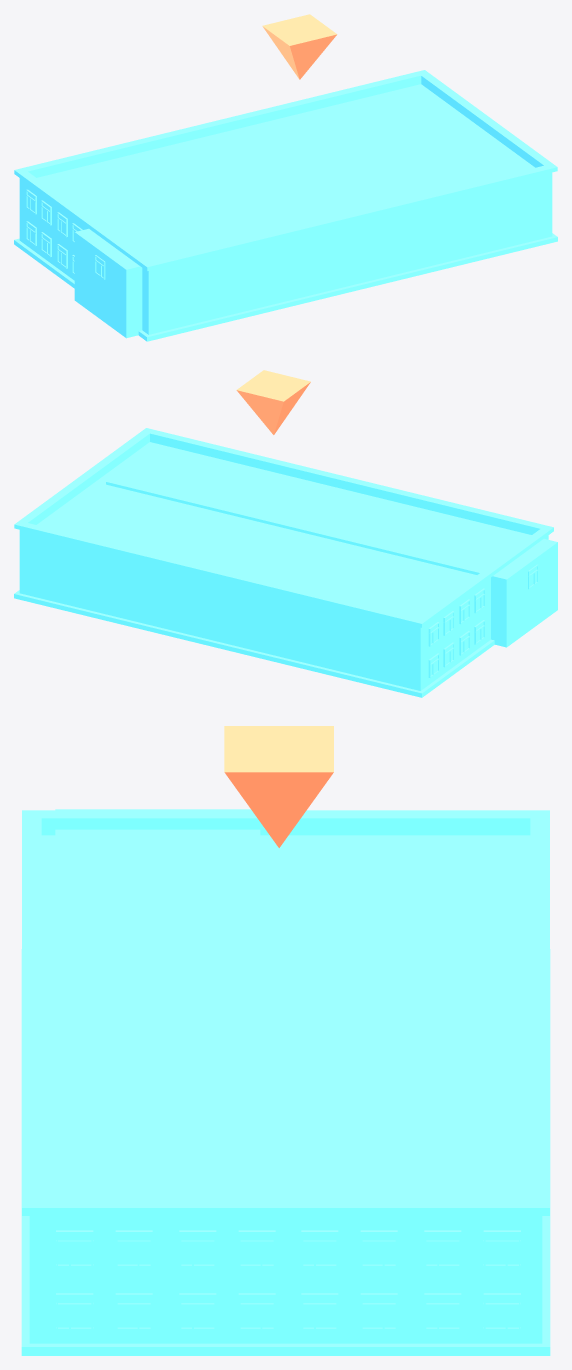
The picture shows the model from 3 angles, top to bottom: view 1: azimuth 30°, elevation 25°; view 2: azimuth 150°, elevation 25°; view 3: azimuth 270°, elevation 25°; orthographic projection. The views are drawn at different scales.
Visible parts, largest first — view 1: subject, fire-mark; view 2: subject, fire-mark; view 3: subject, fire-mark.
Boxes of the visible parts, x1,y1,x2,y2 form: subject: (14,70,557,341); fire-mark: (262,14,337,79); subject: (14,428,557,697); fire-mark: (236,370,310,434); subject: (21,809,550,1355); fire-mark: (224,726,333,847).
Size of the model in its own units: 51.92 by 24.69 by 28.22.
